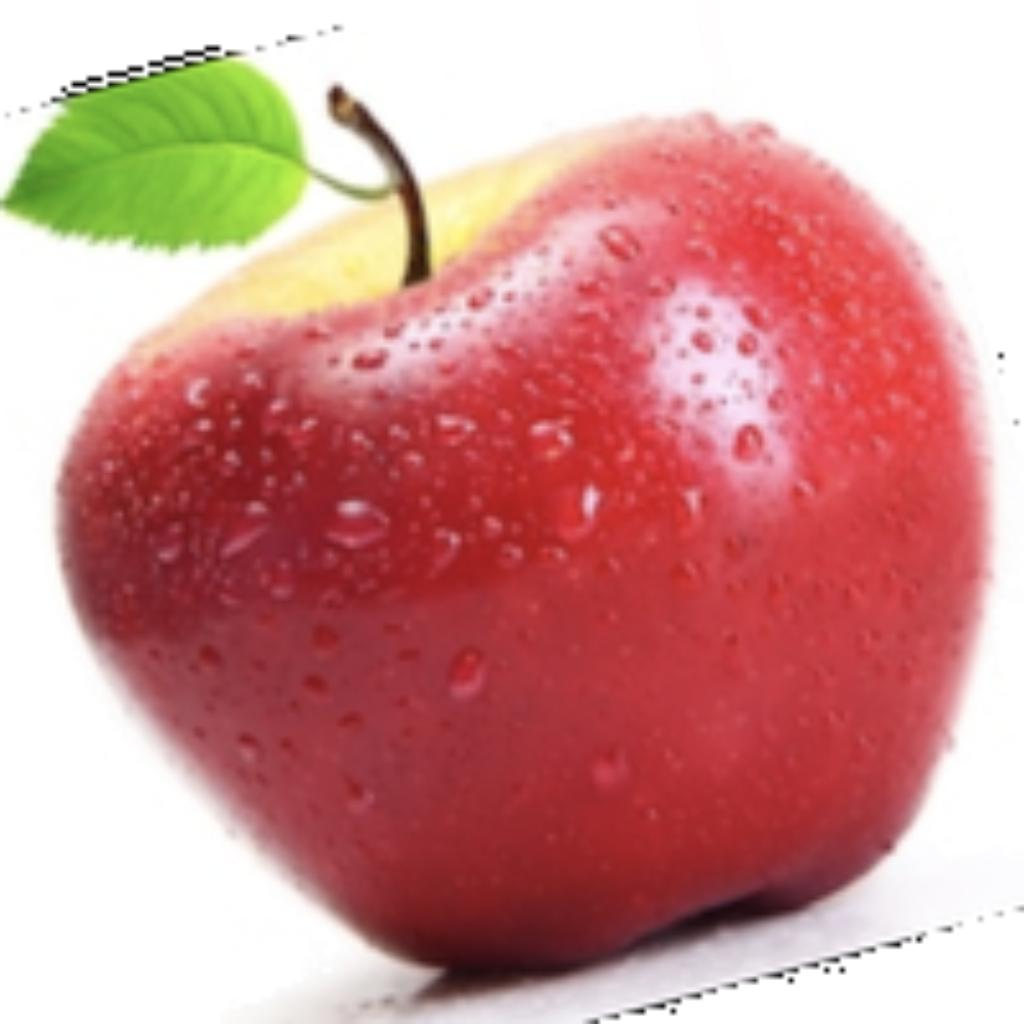apple: (0, 36, 1004, 1019)
